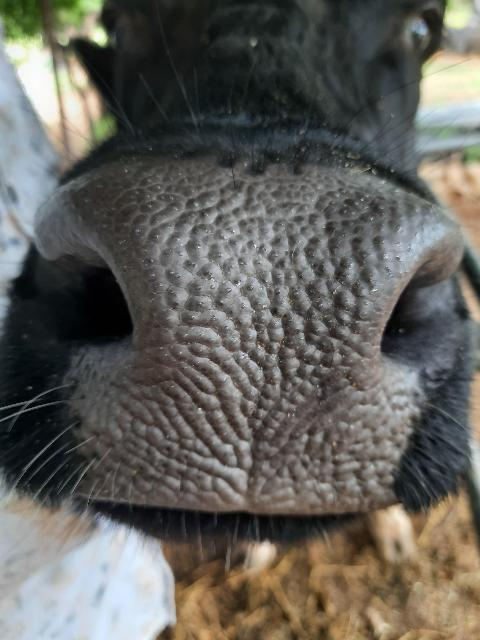Muzzle: (120, 186, 382, 498)
